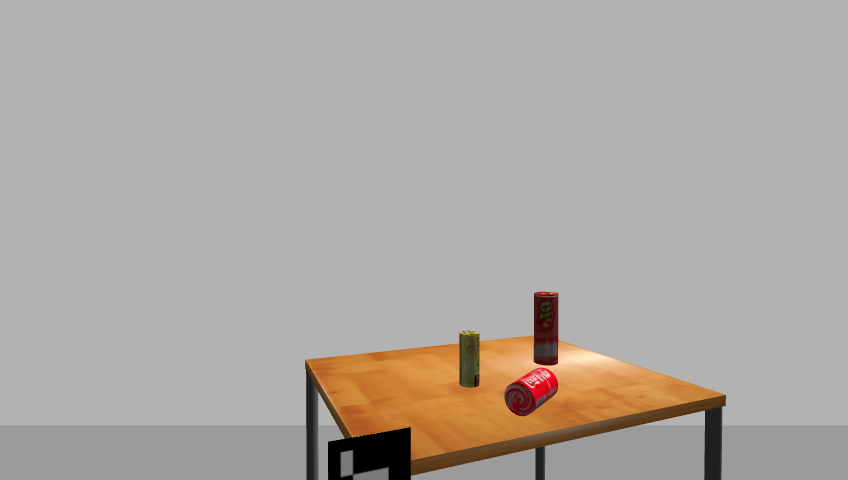aruco marker: (320, 427, 416, 480)
biscuits pack: (457, 331, 482, 389)
coke can: (502, 368, 561, 416)
dinner table: (295, 335, 735, 480)
pringles can: (532, 291, 561, 367)
